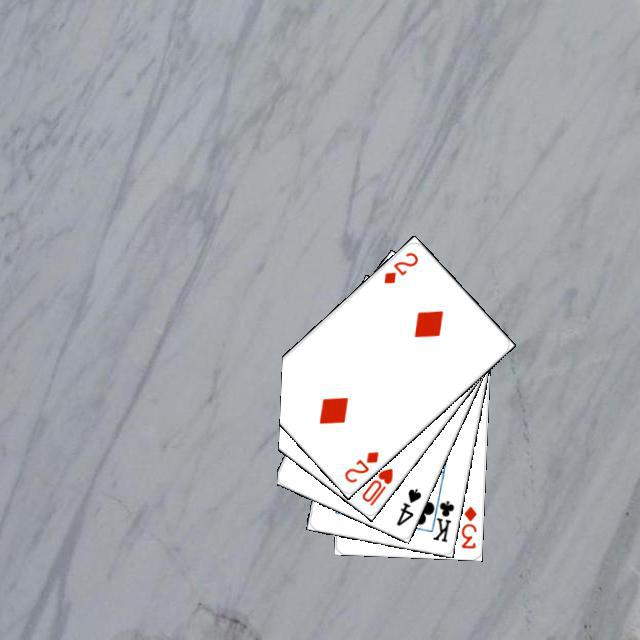10h: (357, 463, 395, 508)
2d: (339, 446, 381, 485), (379, 247, 420, 285)
3d: (456, 501, 478, 550)
4s: (391, 483, 423, 528)
Kc: (425, 489, 456, 544)
